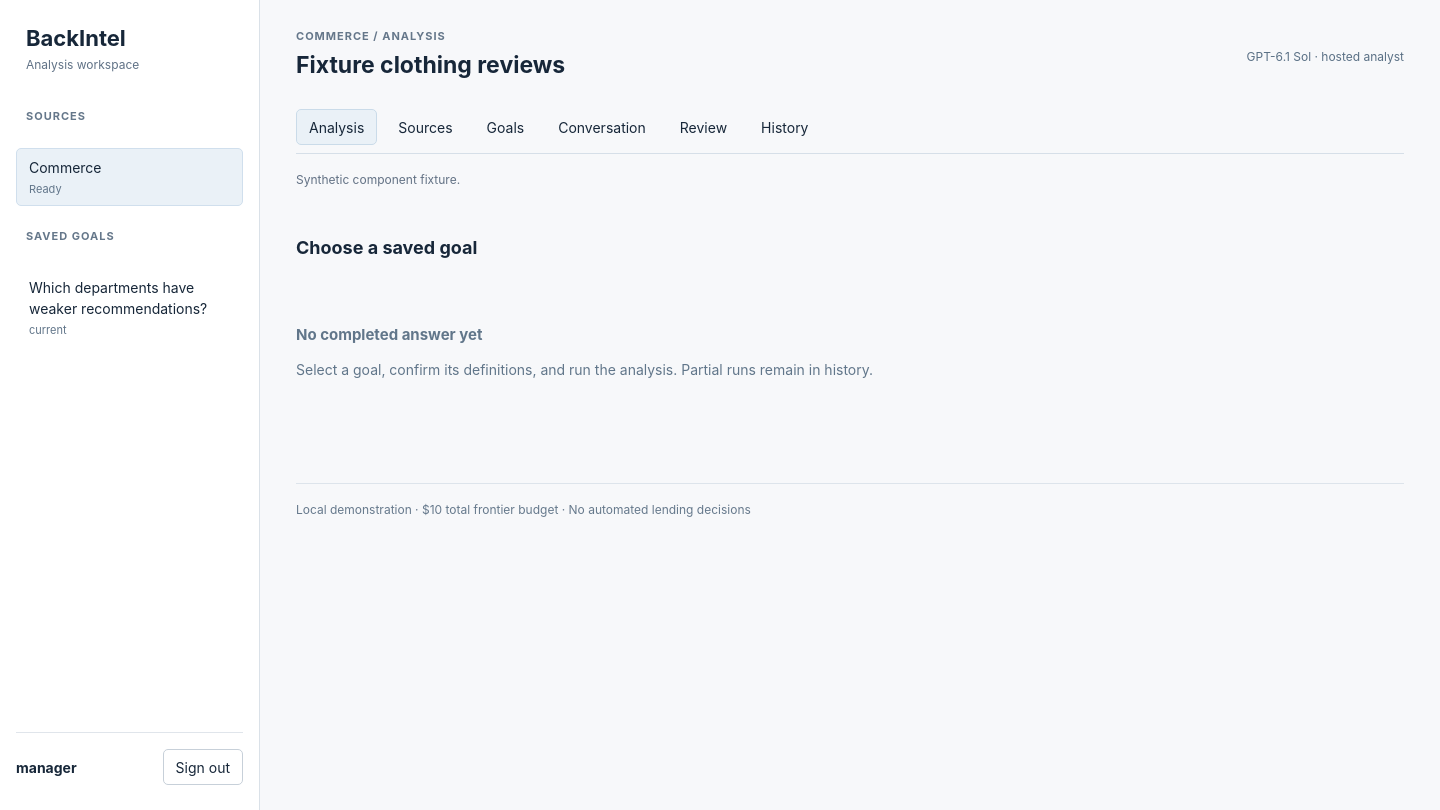
Test: analysis workspace user controls › removes cached answers when a refresh loses authorization
The width and height of the screenshot is (1440, 810).
Expected: the heading "Fixture clothing reviews" is shown, [296,51,565,80]
Click the button "Which departments have weaker recommendations? current".
click(130, 307)  # box [16,268,243,347]
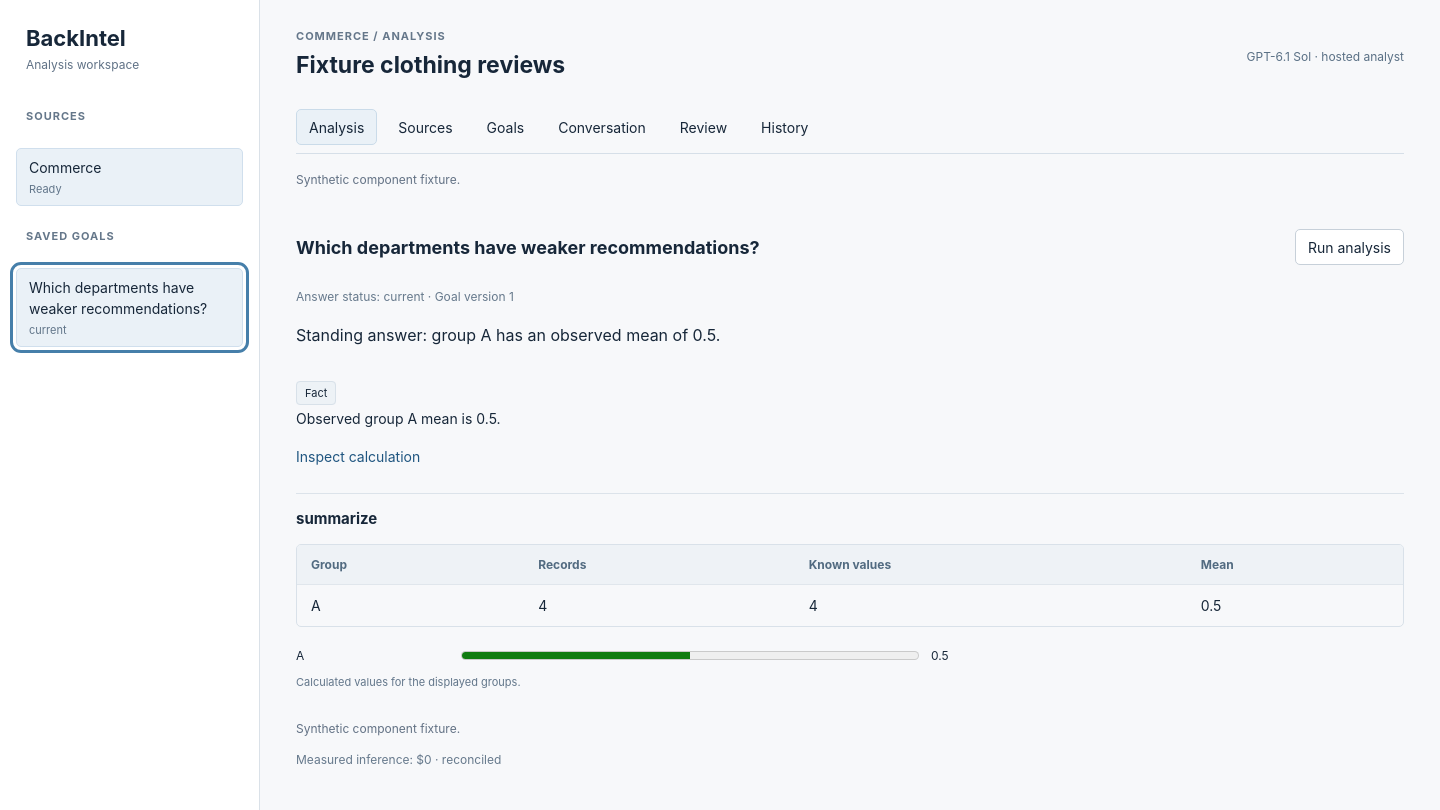
Now the text "Standing answer: group A has an observed mean of 0.5." is shown, box [296,325,720,345]
Click the button "Run analysis".
click(1350, 247)  # box [1295,229,1404,265]
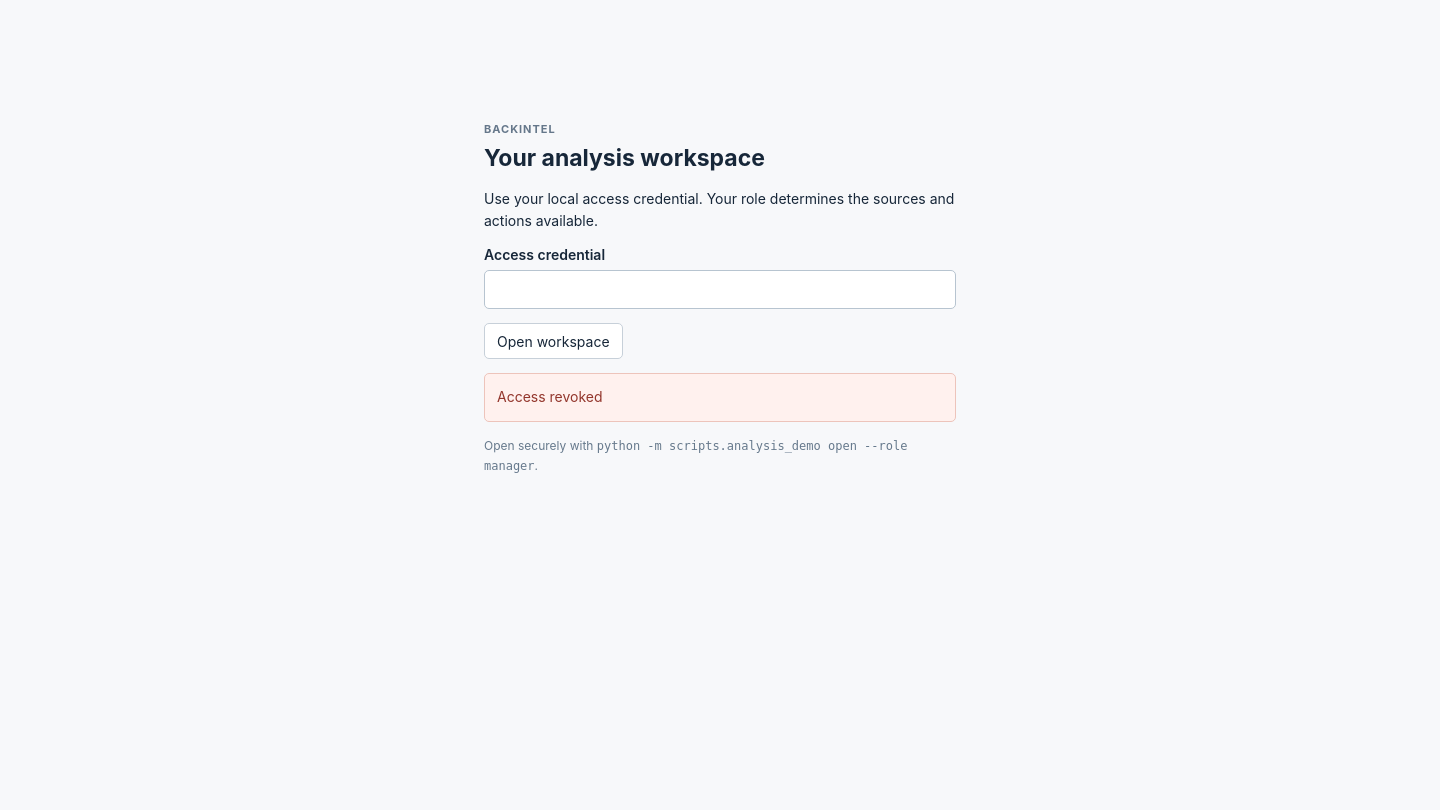
Now the message reads "Access revoked", box [497,388,603,406]
Now the password field labelled "Access credential" is shown, box [484,270,956,310]
Now the text "Standing answer: group A has an observed mean of 0.5." is gone
